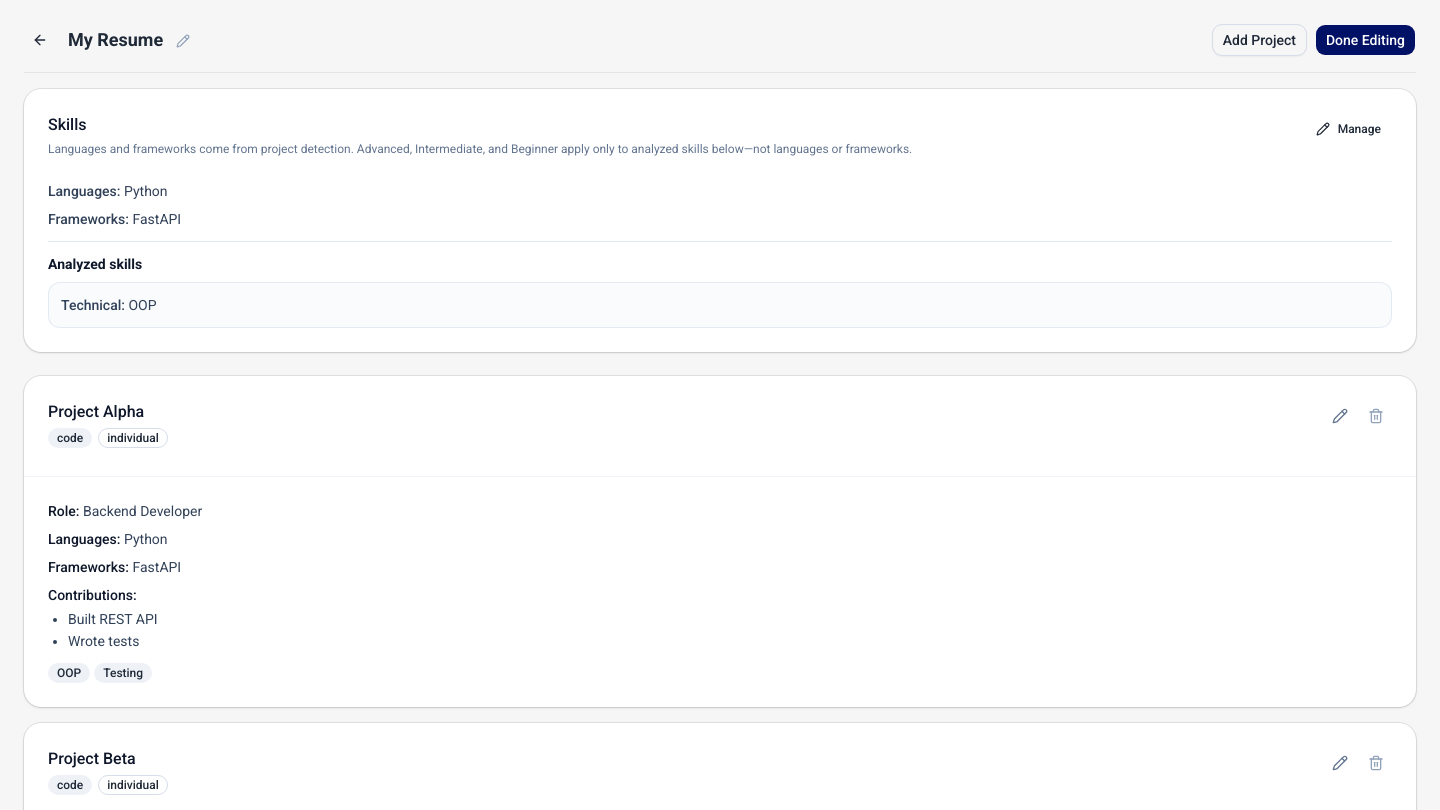
Test: ResumeDetail › remove project from resume › opens confirmation dialog when remove button is clicked
This screenshot has width=1440, height=810.
Expected: the text "Project Alpha" is shown, top-left (48, 402), bottom-right (144, 421)
Step 1. Click the button named "Remove from resume" in the row of "Project Alpha" → {"x": 1376, "y": 416}, box top-left (1360, 400), bottom-right (1392, 432)
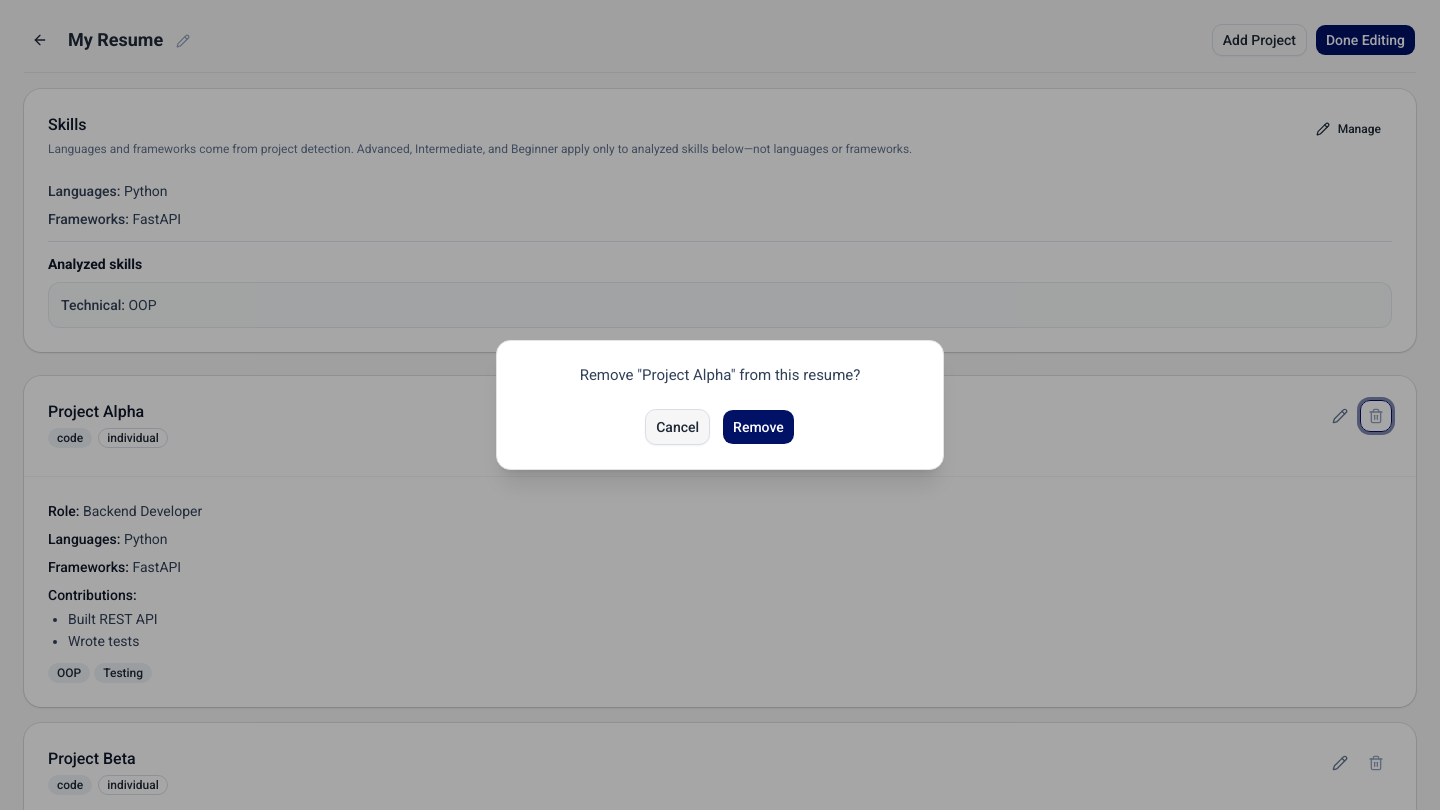
Result: the text "Remove \"Project Alpha\" from this resume?" is shown at top-left (580, 366), bottom-right (860, 384)
Result: the button "Cancel" is shown at top-left (645, 409), bottom-right (710, 445)
Result: the button "Remove" is shown at top-left (722, 409), bottom-right (795, 445)
